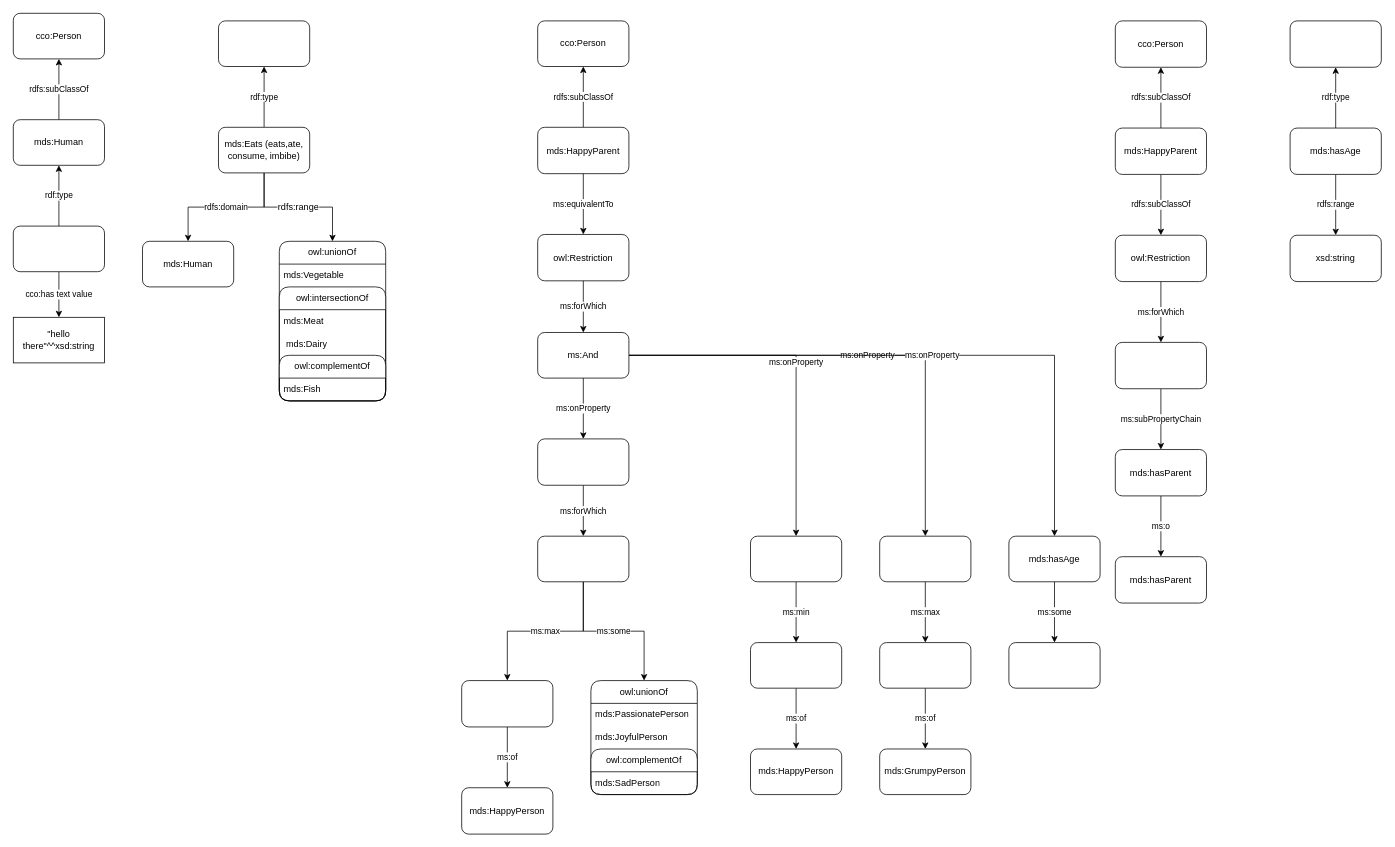
This 1395x847 diagram has some shape labels left out. The centre of each missing label's shape, as x and y in pixels:
"0"^^xsd:integer: point (925, 665)
"1"^^xsd:decimal: point (507, 703)
"1"^^xsd:integer: point (796, 665)
mds:hasChild: point (583, 461)
mds:hasUncle: point (925, 558)
mds:hasWife: point (796, 558)
Me: point (58, 248)
ms:Or: point (583, 558)
ms:Single: point (1160, 365)
owl:DatatypeProperty: point (1335, 43)
owl:ObjectProperty: point (264, 43)
xsd:string[>= 0.0,<= 50.0]: point (1054, 665)
